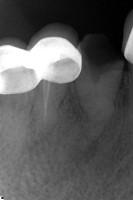Furcation Involvement: (72, 130, 98, 163)
